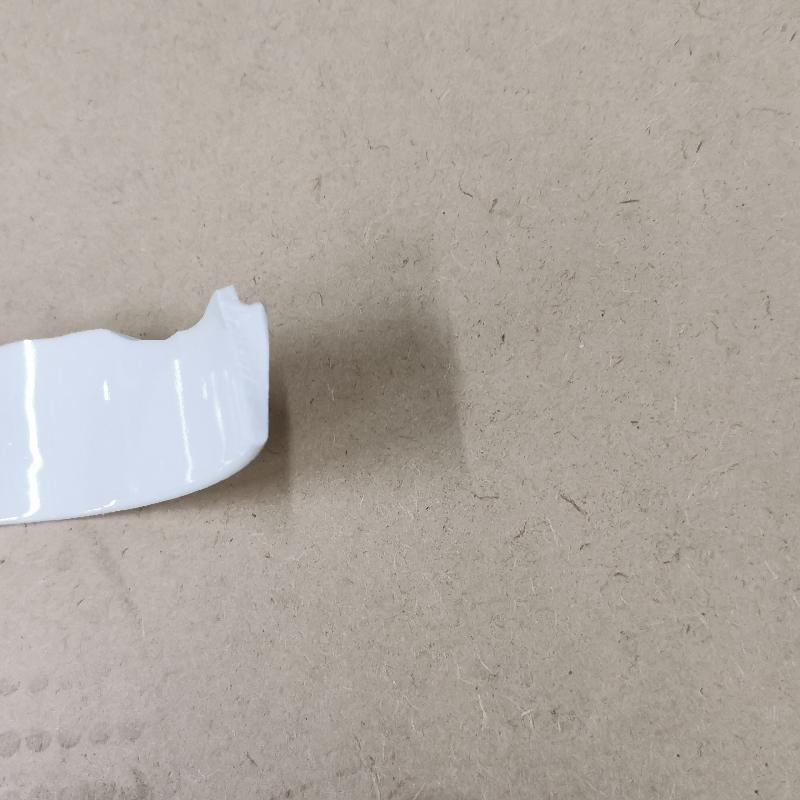ceram: (2, 282, 274, 533)
